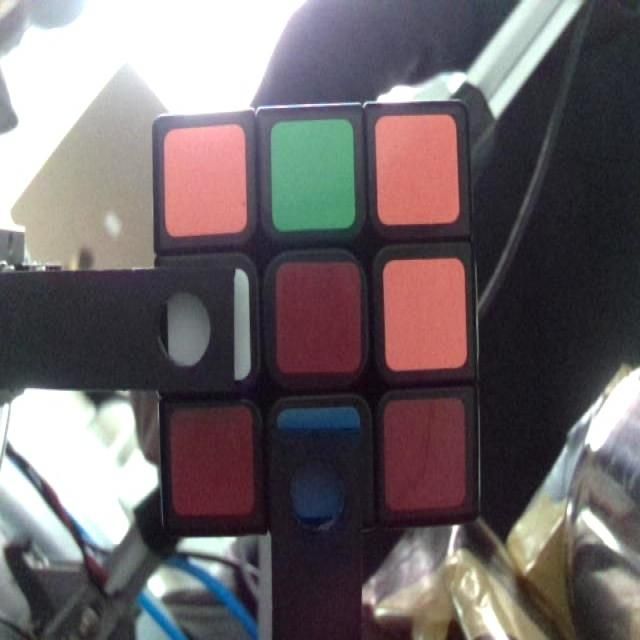b: (282, 410, 359, 518)
g: (273, 125, 351, 223)
o: (383, 262, 464, 366), (374, 119, 456, 221), (166, 132, 244, 228)
r: (277, 261, 356, 371), (388, 407, 463, 504), (173, 411, 247, 506)
w: (168, 268, 248, 376)
